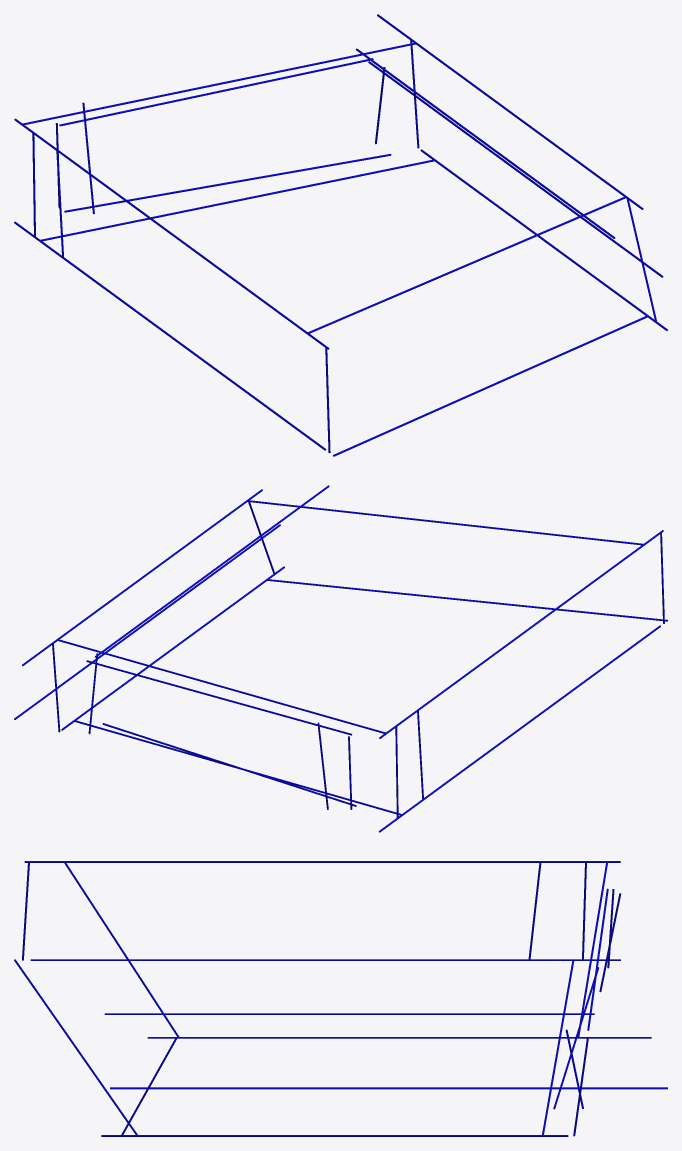
The model's file is corrected_3d_strokes.glb.
The picture shows the model from 3 angles, top to bottom: view 1: azimuth 30°, elevation 25°; view 2: azimuth 150°, elevation 25°; view 3: azimuth 270°, elevation 25°; orthographic projection. The views are drawn at different scales.
Visible parts, largest first — view 1: world; view 2: world; view 3: world.
Part boxes in pixels (x1,y1,x2,y2): world: (14, 14, 667, 456); world: (14, 485, 667, 832); world: (14, 861, 667, 1136).
Bounding box in the file's own units: 8.22 × 2.17 × 12.86.
